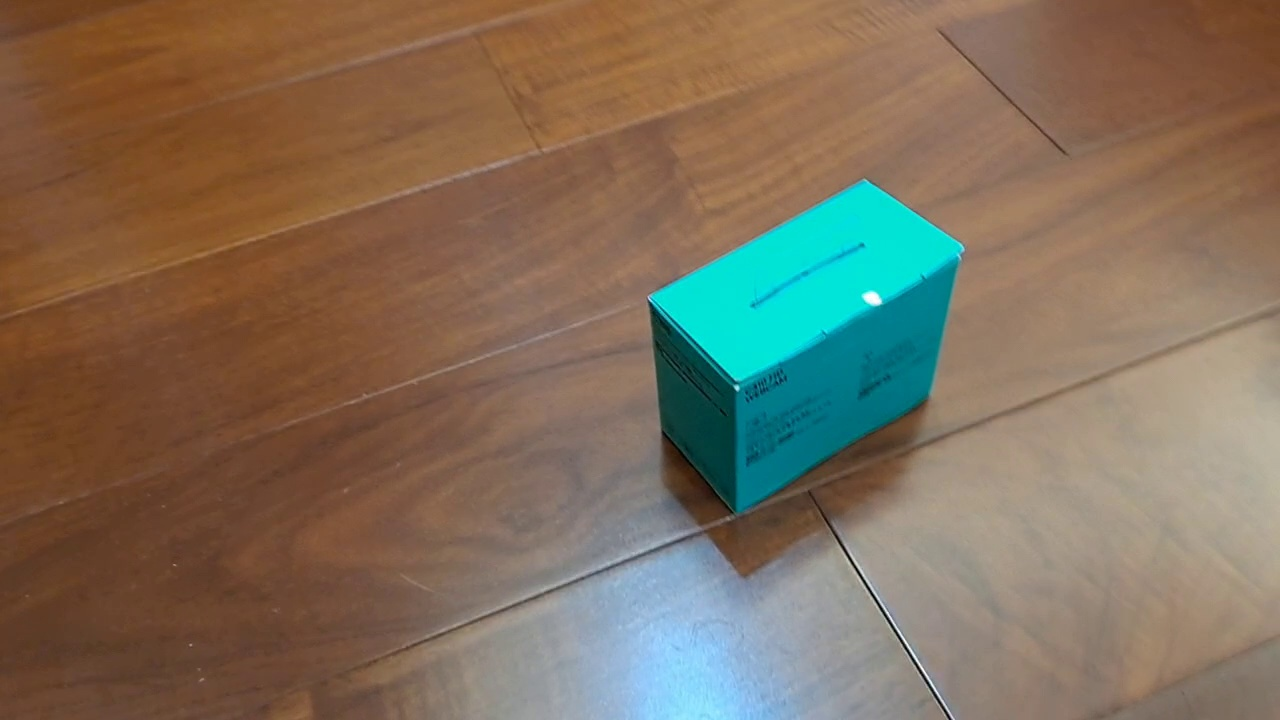webcam: (645, 176, 966, 518)
